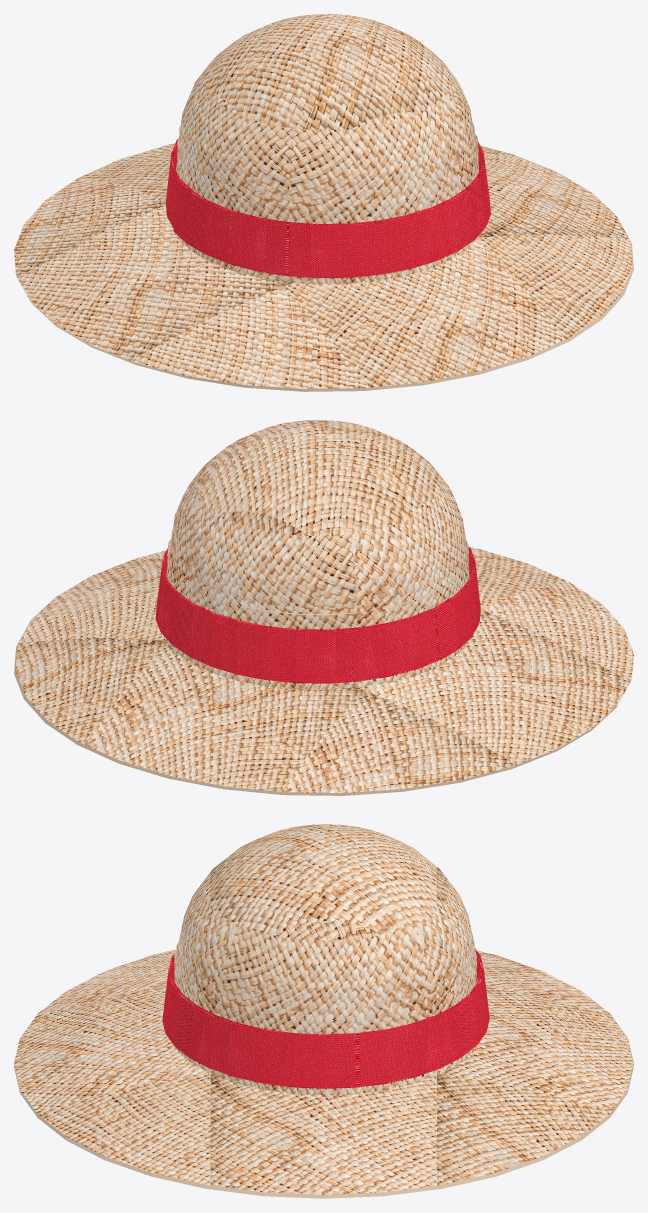
The picture shows the model from 3 angles, top to bottom: view 1: azimuth 30°, elevation 25°; view 2: azimuth 150°, elevation 25°; view 3: azimuth 270°, elevation 25°; orthographic projection.
Visible parts, largest first — view 1: sombrero, liston; view 2: sombrero, liston; view 3: sombrero, liston.
Boxes of the visible parts, x1=… form: sombrero: x1=14, y1=14, x2=633, y2=391; liston: x1=165, y1=139, x2=490, y2=278; sombrero: x1=14, y1=420, x2=633, y2=795; liston: x1=155, y1=547, x2=480, y2=683; sombrero: x1=14, y1=824, x2=633, y2=1198; liston: x1=162, y1=948, x2=489, y2=1088.
Size of the model in its own units: 0.4175 by 0.1696 by 0.4166.
2 materials, 2 textured.
